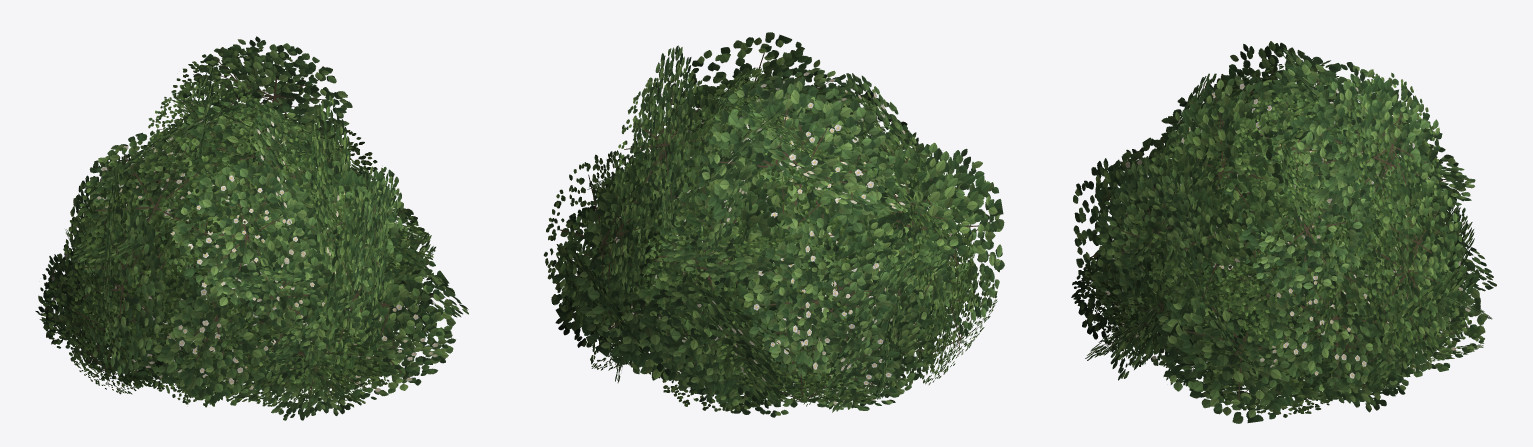
The model's file is shrubs.glb.
3 views of the same model, side by side, from view 1: azimuth 30°, elevation 25°; view 2: azimuth 150°, elevation 25°; view 3: azimuth 270°, elevation 25° (orthographic). The views are drawn at different scales.
Parts seen in each view (by area): view 1: shrub_glossy, shrub_bloom, shrub_box; view 2: shrub_glossy, shrub_bloom, shrub_box; view 3: shrub_glossy, shrub_bloom, shrub_box.
Boxes of the visible parts, x1=… form: shrub_glossy: x1=42, y1=36, x2=468, y2=420; shrub_bloom: x1=35, y1=96, x2=455, y2=405; shrub_box: x1=40, y1=77, x2=423, y2=409; shrub_glossy: x1=543, y1=32, x2=1004, y2=408; shrub_bloom: x1=576, y1=68, x2=972, y2=417; shrub_box: x1=590, y1=67, x2=950, y2=413; shrub_glossy: x1=1071, y1=41, x2=1496, y2=423; shrub_bloom: x1=1085, y1=46, x2=1492, y2=393; shrub_box: x1=1088, y1=76, x2=1484, y2=417.
Bounding box in the file's own units: 2 × 1.44 × 1.94.
1 material, 1 textured.
